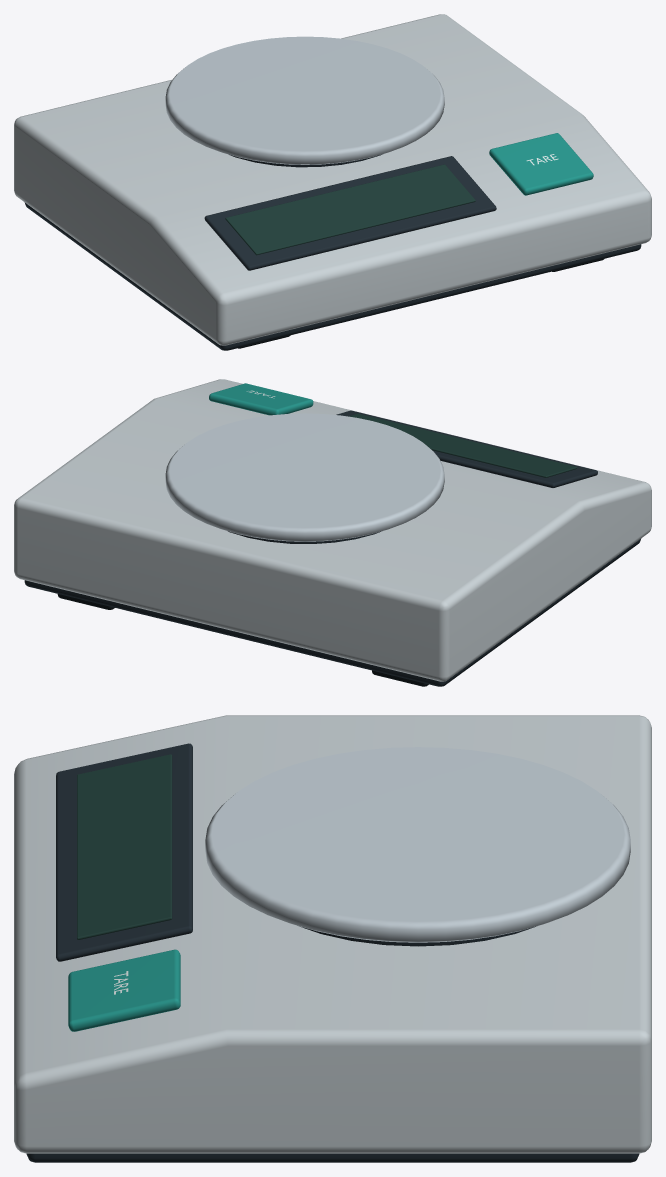
Rendered from VLAB_balance.fbx.
3 views of the same model, one above another, from view 1: azimuth 30°, elevation 25°; view 2: azimuth 150°, elevation 25°; view 3: azimuth 270°, elevation 25° (orthographic). The views are drawn at different scales.
Visible parts, largest first — view 1: VLAB_balance_Body_VIS, VLAB_balance_Pan_VIS, VLAB_balance_Display_VIS, VLAB_balance_DisplayBezel_VIS, VLAB_balance_TareButton_VIS, VLAB_balance_Base_VIS; view 2: VLAB_balance_Body_VIS, VLAB_balance_Pan_VIS, VLAB_balance_Base_VIS, VLAB_balance_Display_VIS, VLAB_balance_DisplayBezel_VIS, VLAB_balance_TareButton_VIS; view 3: VLAB_balance_Body_VIS, VLAB_balance_Pan_VIS, VLAB_balance_Display_VIS, VLAB_balance_DisplayBezel_VIS, VLAB_balance_TareButton_VIS, VLAB_balance_Base_VIS, VLAB_balance_PanSupport_VIS.
Part boxes in pixels (bbox=[...]): VLAB_balance_Body_VIS: bbox=[14, 14, 651, 345]; VLAB_balance_Pan_VIS: bbox=[165, 36, 444, 164]; VLAB_balance_Display_VIS: bbox=[225, 164, 475, 255]; VLAB_balance_DisplayBezel_VIS: bbox=[204, 156, 496, 270]; VLAB_balance_TareButton_VIS: bbox=[489, 133, 593, 195]; VLAB_balance_Base_VIS: bbox=[24, 202, 641, 350]; VLAB_balance_Body_VIS: bbox=[14, 379, 651, 681]; VLAB_balance_Pan_VIS: bbox=[165, 413, 444, 541]; VLAB_balance_Base_VIS: bbox=[24, 538, 641, 686]; VLAB_balance_Display_VIS: bbox=[348, 413, 577, 477]; VLAB_balance_DisplayBezel_VIS: bbox=[336, 410, 597, 487]; VLAB_balance_TareButton_VIS: bbox=[209, 383, 313, 415]; VLAB_balance_Body_VIS: bbox=[14, 715, 651, 1153]; VLAB_balance_Pan_VIS: bbox=[205, 747, 630, 942]; VLAB_balance_Display_VIS: bbox=[77, 754, 172, 939]; VLAB_balance_DisplayBezel_VIS: bbox=[56, 743, 192, 961]; VLAB_balance_TareButton_VIS: bbox=[68, 949, 180, 1031]; VLAB_balance_Base_VIS: bbox=[26, 1153, 639, 1162]; VLAB_balance_PanSupport_VIS: bbox=[299, 926, 535, 946].
Size of the model in its own units: 0.18 by 0.05 by 0.15.
